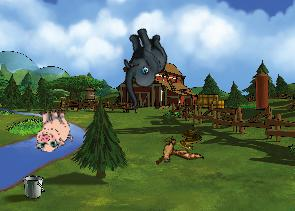eagle: (147, 126, 204, 178)
elephant: (102, 22, 182, 109)
pig: (31, 107, 73, 152)
